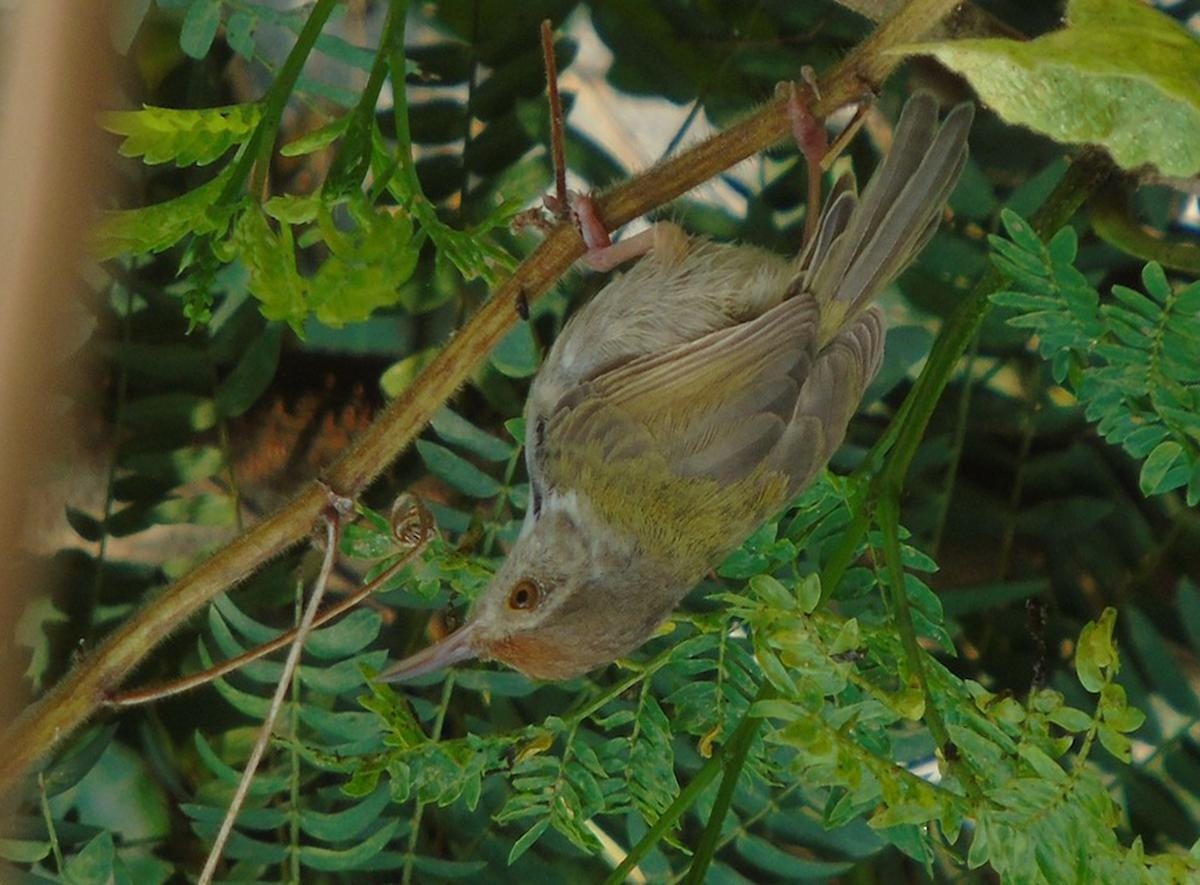tailorbird: (366, 79, 1055, 720)
